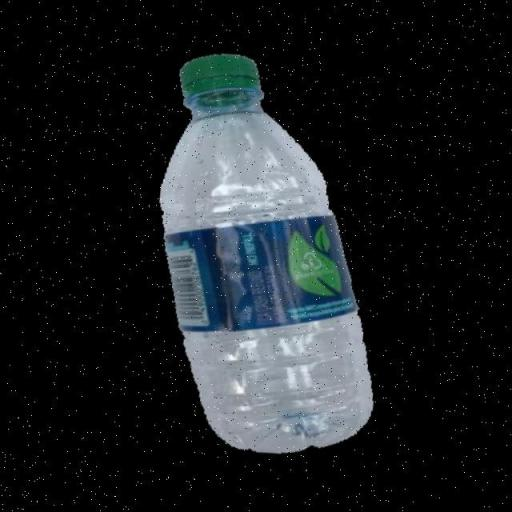plastic: (132, 42, 414, 475)
